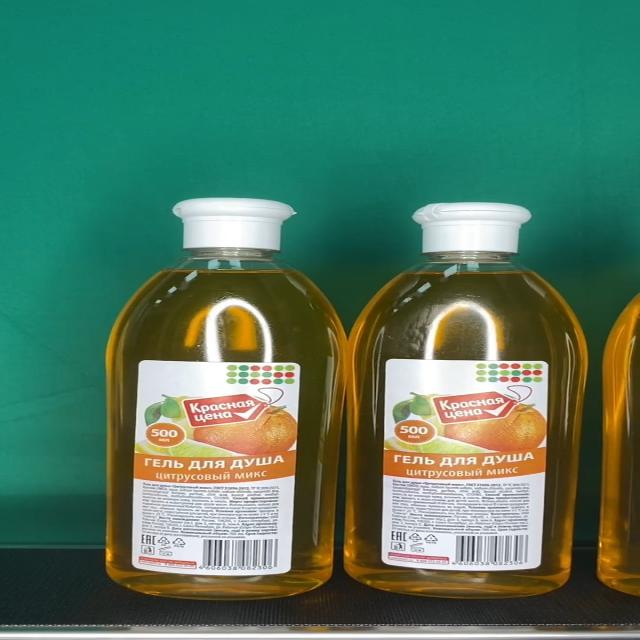Bottle: (103, 197, 348, 600), (346, 202, 588, 600)
Cap: (412, 202, 533, 254), (172, 198, 294, 248)
